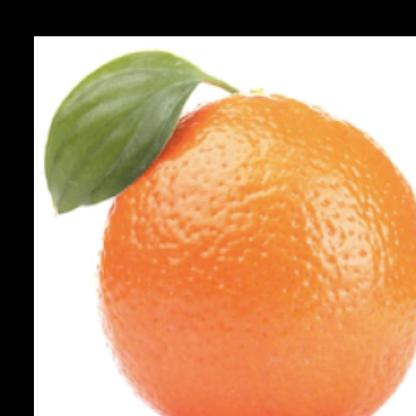fresh: (99, 87, 416, 416)
